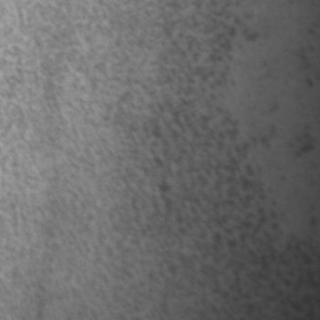pitted_surface: (116, 2, 294, 288)
